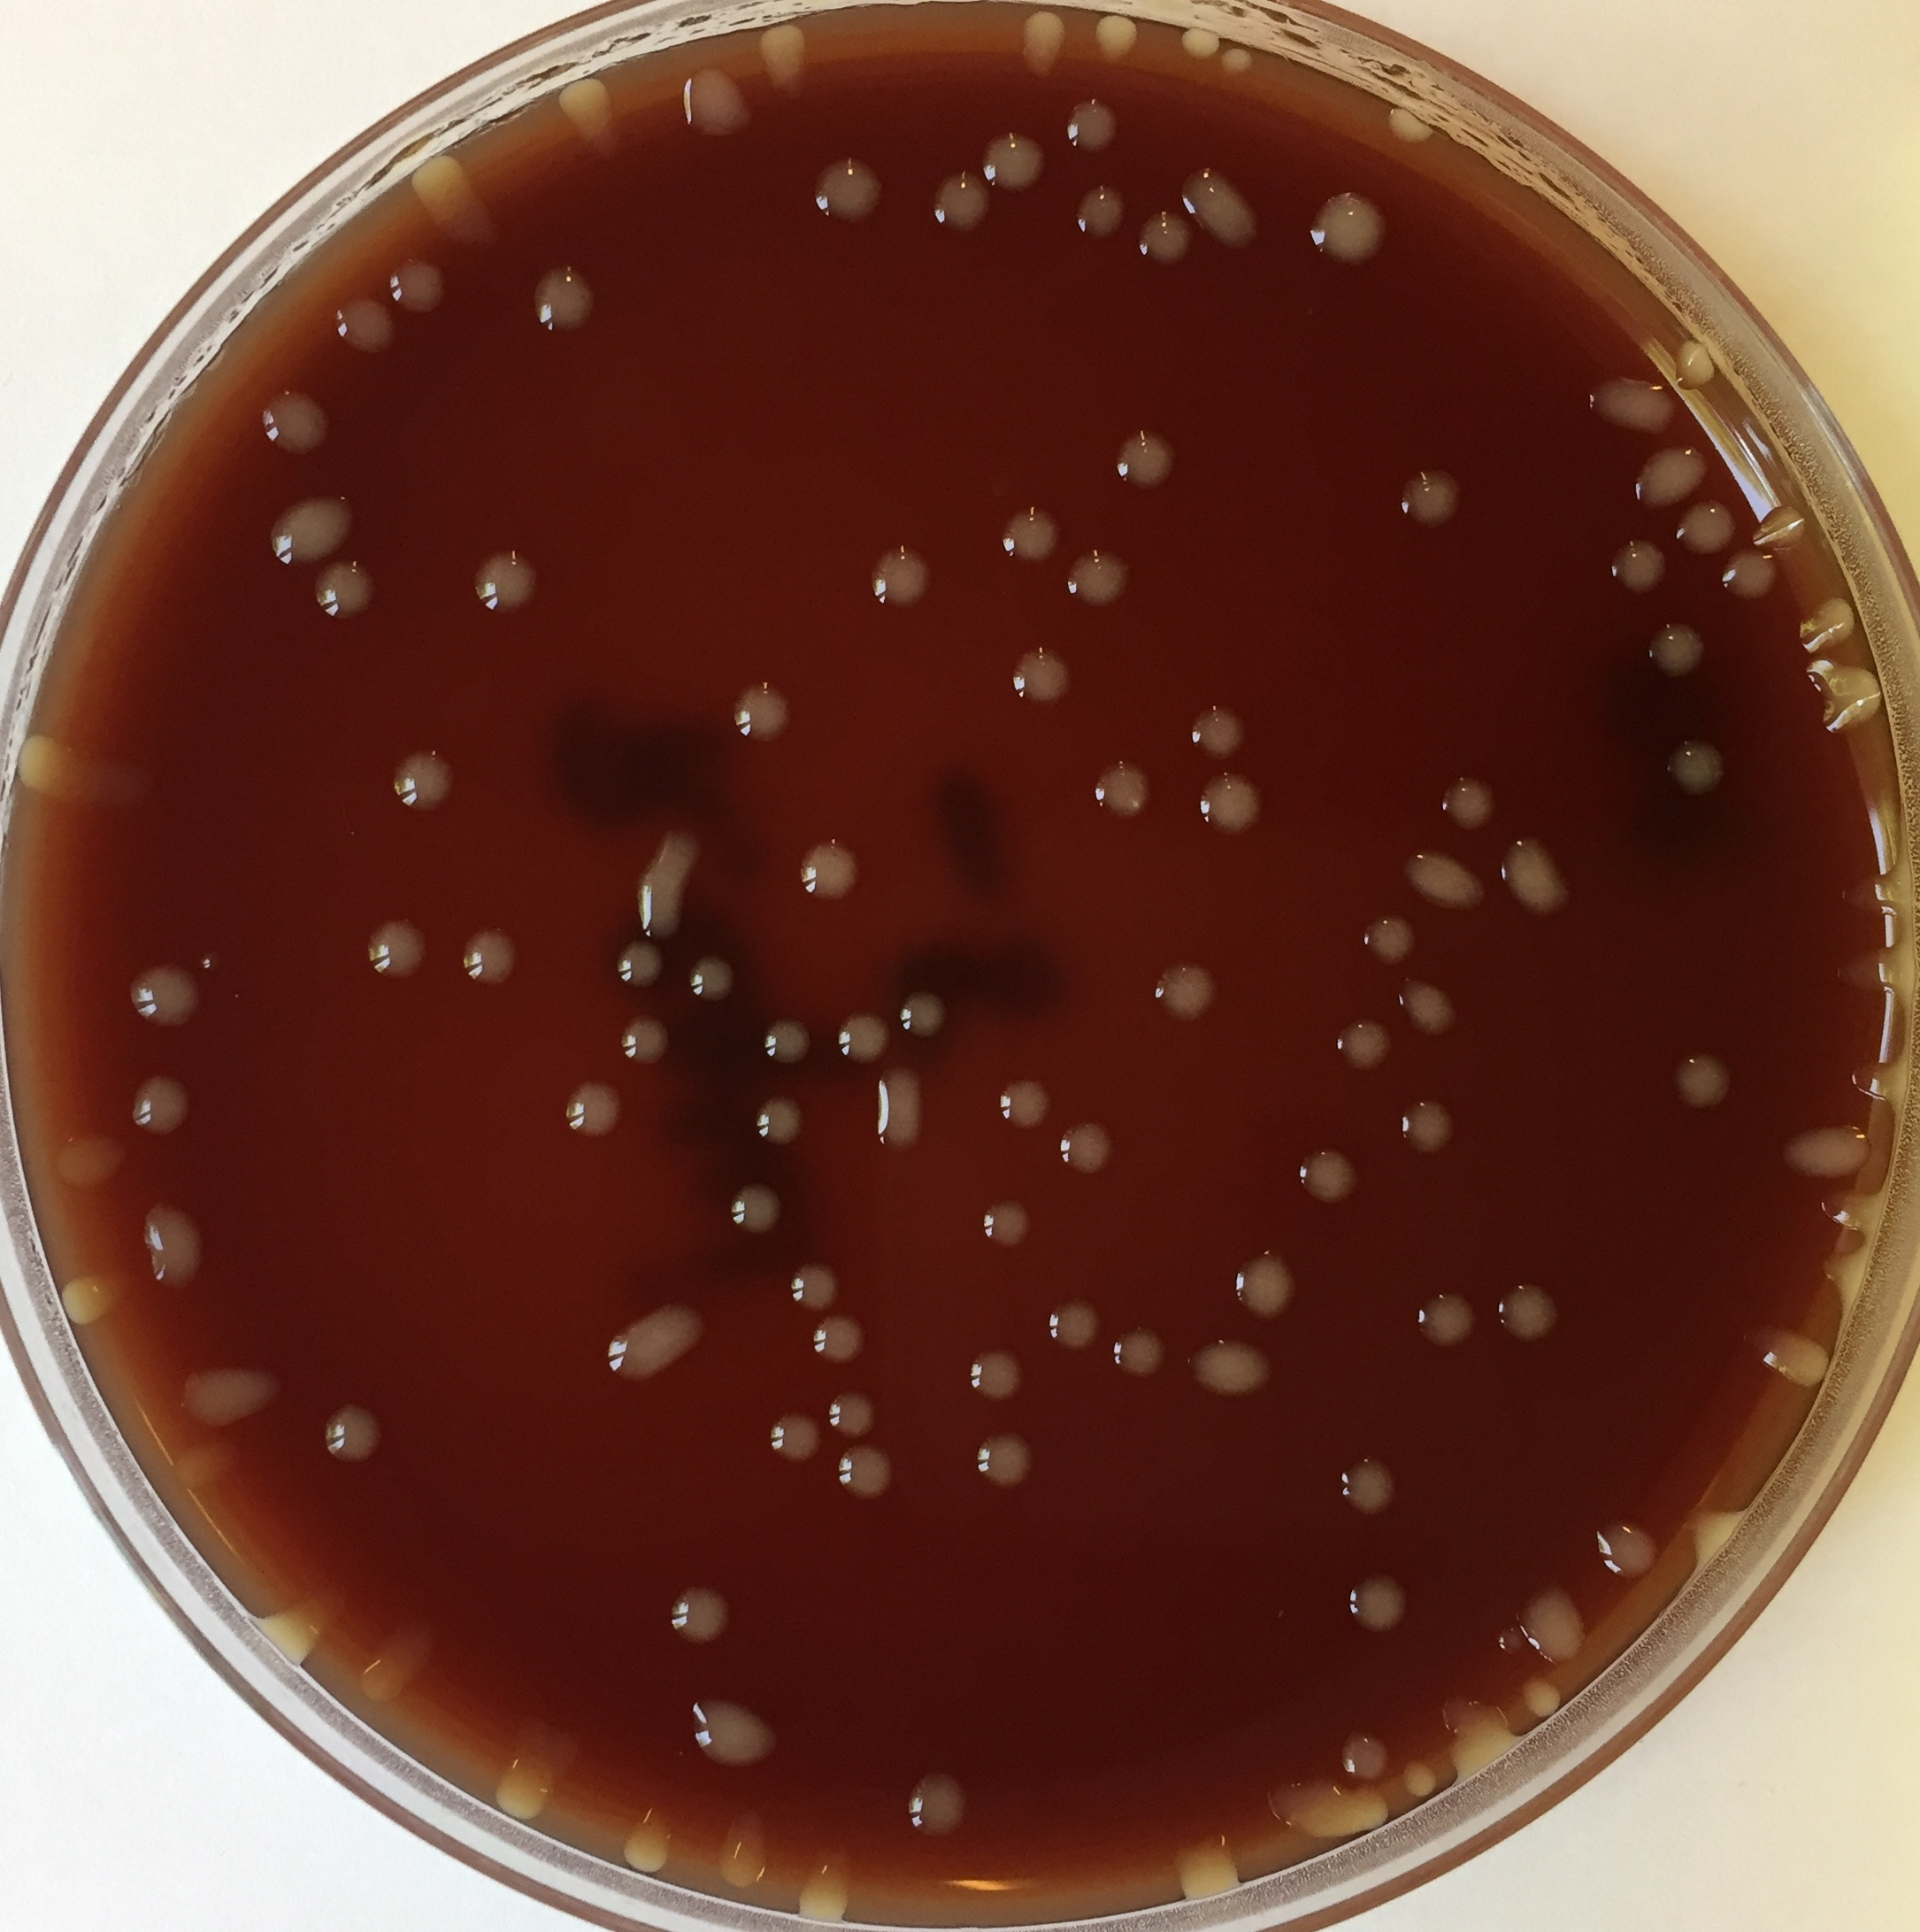sp19: (410, 149, 508, 262), (605, 1297, 719, 1394), (1176, 158, 1264, 260), (1268, 1772, 1385, 1848), (680, 1688, 781, 1770), (1301, 185, 1394, 271), (244, 1591, 331, 1681), (16, 723, 113, 802), (633, 835, 702, 946), (142, 1202, 218, 1303), (527, 257, 614, 343), (805, 151, 900, 229), (1498, 835, 1586, 918), (178, 1354, 278, 1426), (271, 489, 357, 571), (127, 960, 220, 1034), (1742, 1317, 1837, 1389), (760, 21, 830, 118), (1438, 1702, 1524, 1777), (484, 1740, 563, 1821), (1806, 652, 1883, 735), (1830, 854, 1920, 925), (675, 65, 745, 153), (1398, 846, 1486, 914), (56, 1264, 142, 1333), (1514, 1584, 1591, 1660), (257, 385, 332, 462), (1836, 941, 1920, 1009), (549, 72, 619, 153), (1166, 1834, 1250, 1900), (1589, 369, 1674, 436), (1663, 496, 1748, 563), (1152, 962, 1233, 1030), (164, 1436, 244, 1505), (717, 1802, 779, 1892), (471, 545, 542, 622), (862, 543, 941, 612), (121, 1069, 200, 1137), (325, 292, 408, 357), (1189, 1336, 1278, 1396), (788, 1853, 858, 1928), (1679, 1503, 1755, 1573), (53, 1132, 134, 1197), (1788, 1115, 1876, 1174), (876, 1062, 932, 1155), (308, 557, 378, 631), (1495, 1278, 1570, 1347), (1586, 1515, 1663, 1582), (387, 747, 461, 814), (1006, 647, 1087, 707), (832, 1436, 902, 1505), (981, 127, 1051, 195), (1635, 443, 1707, 510), (1333, 1452, 1407, 1517), (1396, 462, 1465, 531), (902, 1769, 974, 1834), (795, 840, 869, 904), (1345, 1566, 1410, 1637), (316, 1405, 397, 1461), (804, 1311, 877, 1373), (728, 680, 795, 747), (927, 171, 999, 232), (724, 1178, 784, 1252), (621, 1800, 677, 1878), (364, 916, 429, 983), (1234, 1252, 1298, 1320), (1115, 431, 1183, 494), (964, 1345, 1030, 1408), (385, 255, 452, 318), (665, 1586, 733, 1647), (1417, 1289, 1486, 1350), (1672, 1051, 1741, 1113), (1090, 7, 1152, 76), (1194, 777, 1264, 837), (1016, 7, 1074, 79), (1663, 737, 1728, 800), (1090, 758, 1153, 823), (1331, 1013, 1393, 1078), (1609, 534, 1670, 599), (1187, 701, 1252, 763), (1800, 591, 1860, 657), (617, 1009, 684, 1069), (1396, 977, 1459, 1039), (1644, 619, 1709, 679), (461, 926, 526, 986), (1818, 1185, 1887, 1241), (833, 1011, 897, 1071), (1064, 97, 1129, 155), (345, 1649, 411, 1705), (1394, 1099, 1461, 1155), (1067, 548, 1134, 605), (1000, 501, 1060, 563), (1071, 181, 1129, 244), (1720, 543, 1779, 603), (997, 1076, 1057, 1136), (1851, 1051, 1918, 1104), (1299, 1148, 1359, 1206), (974, 1433, 1034, 1489), (1108, 1324, 1167, 1380), (765, 1408, 828, 1461), (1440, 775, 1498, 832), (897, 988, 955, 1044), (1046, 1297, 1106, 1352), (1335, 1728, 1396, 1781), (782, 1257, 847, 1306), (753, 1095, 809, 1151), (1818, 1248, 1876, 1303), (1057, 1123, 1115, 1178), (1139, 207, 1192, 267), (568, 1078, 619, 1139), (825, 1385, 881, 1440), (1751, 501, 1809, 554), (1672, 339, 1725, 397), (614, 939, 673, 990), (1382, 102, 1442, 153), (979, 1197, 1037, 1248), (1357, 916, 1415, 967), (1517, 1670, 1572, 1723), (761, 1014, 816, 1065), (682, 956, 738, 1004), (1176, 19, 1231, 67), (1220, 49, 1269, 93), (1396, 1756, 1440, 1800), (1491, 1623, 1531, 1665)
